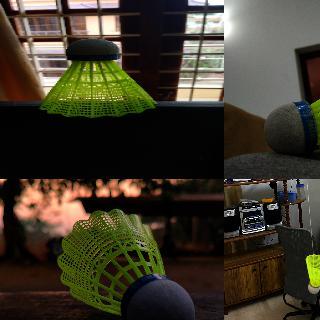shuttlecock: (56, 208, 194, 319), (40, 39, 157, 118), (263, 60, 319, 155), (305, 254, 319, 294)
